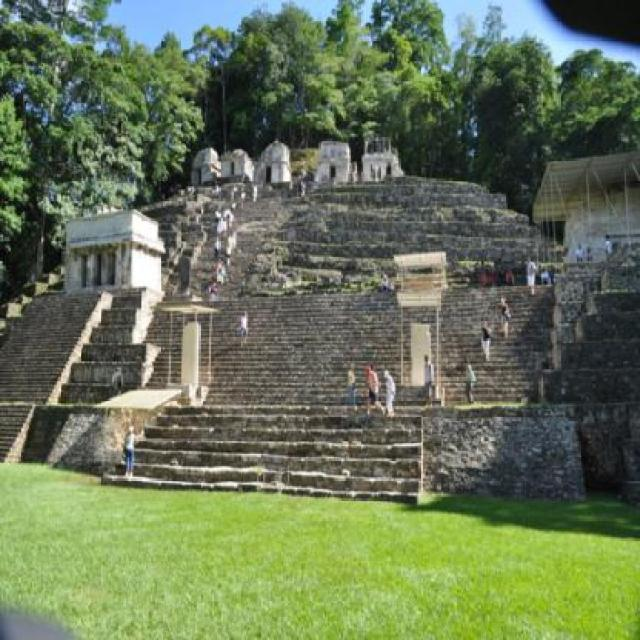stair: (95, 276, 557, 504), (0, 283, 103, 463), (537, 286, 640, 406)
